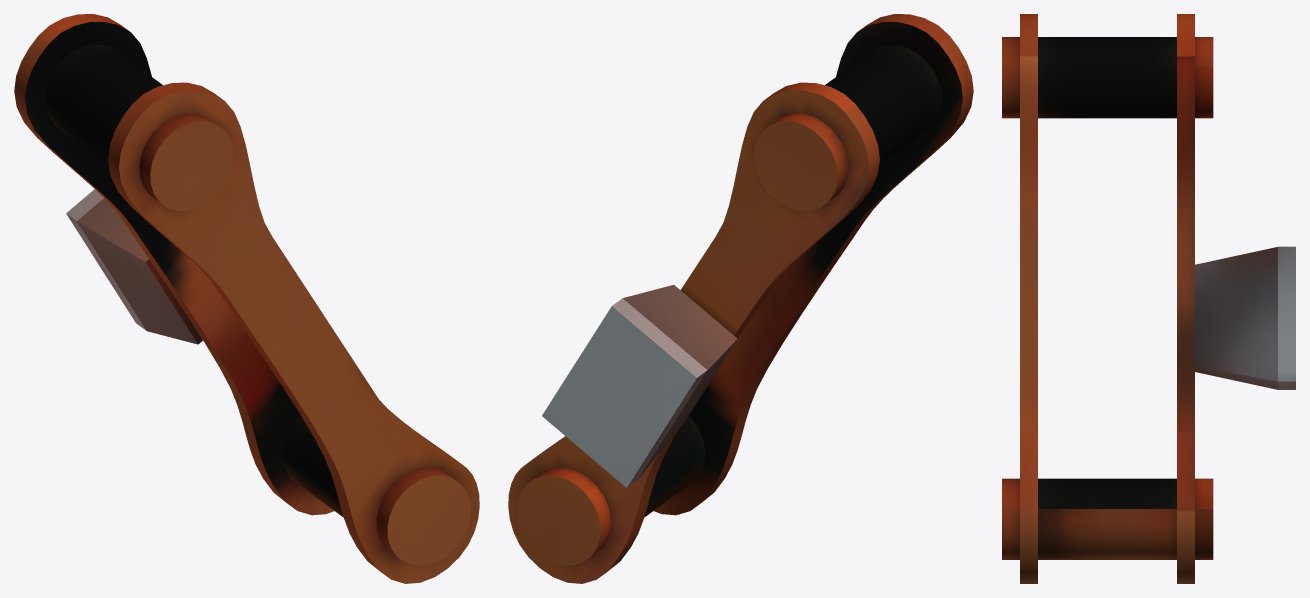
The picture shows the model from 3 angles, left to right: view 1: azimuth 30°, elevation 25°; view 2: azimuth 150°, elevation 25°; view 3: azimuth 270°, elevation 25°; orthographic projection. The views are drawn at different scales.
Parts seen in each view (by area): view 1: arm-bk-C-1, arm-C-dm, arm-C-bk-dm; view 2: arm-bk-C-1, arm-C-dm, arm-C-bk-dm; view 3: arm-bk-C-1, arm-C-dm, arm-C-bk-dm.
Part boxes in pixels (x1,y1,x2,y2): arm-bk-C-1: (14,14,479,583); arm-C-dm: (45,44,233,210); arm-C-bk-dm: (282,415,470,565); arm-bk-C-1: (508,14,973,583); arm-C-dm: (754,44,942,210); arm-C-bk-dm: (517,416,705,565); arm-bk-C-1: (1020,14,1295,583); arm-C-dm: (1002,37,1213,118); arm-C-bk-dm: (1002,478,1213,559).
Bounding box in the file's own units: 0.3863 × 0.3257 × 0.5624.
1 material, 1 textured.
